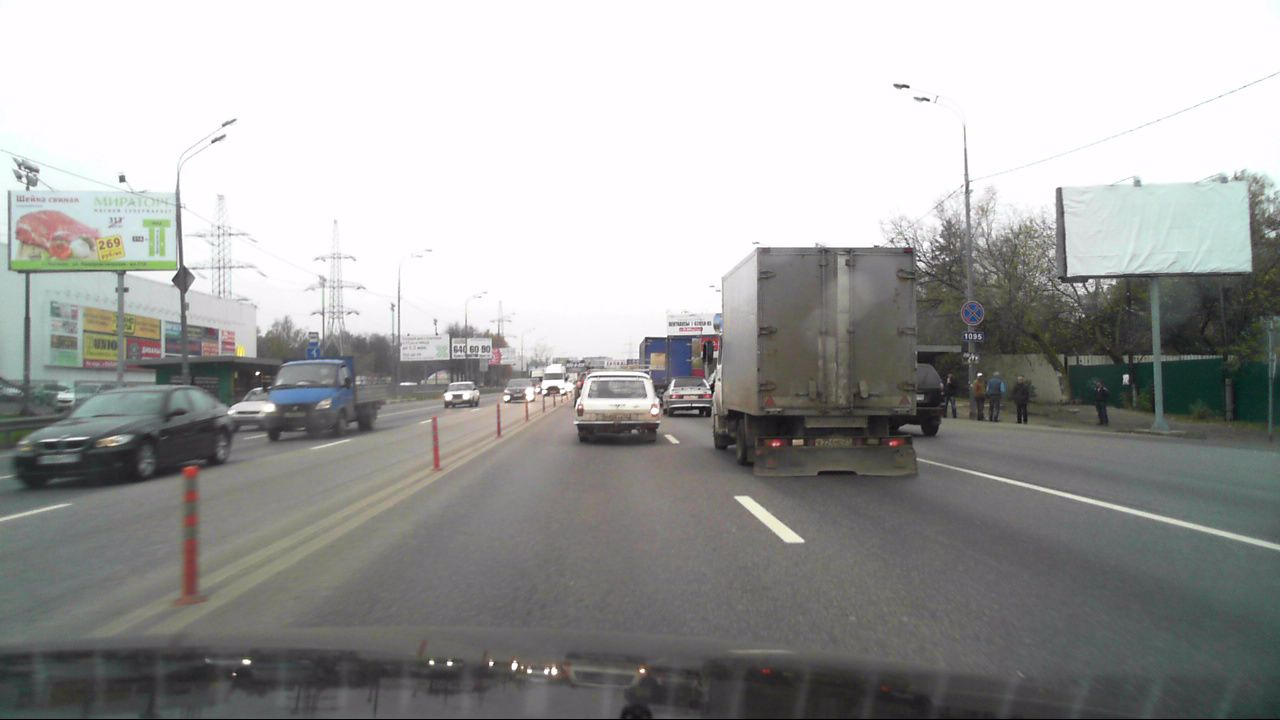No Parking: (960, 300, 985, 327)
